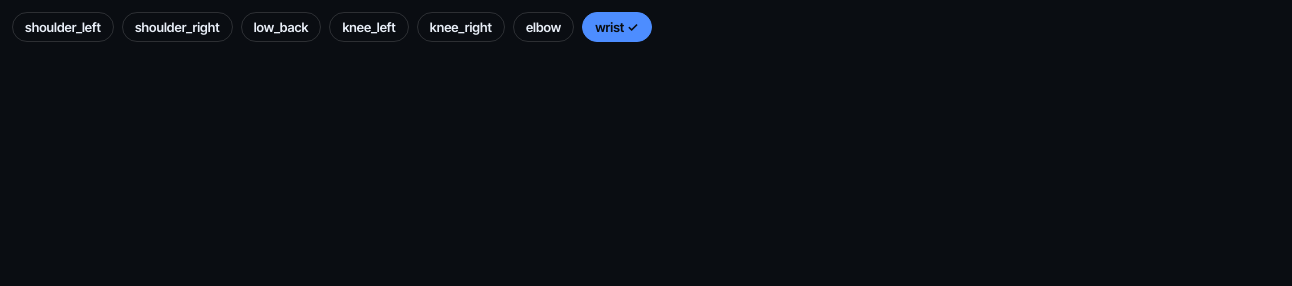
Test: <InjuryChipsEditor> › reverts chip state and surfaces error when PATCH fails
Click the button "wrist ✓".
click(617, 27)  # box [582,12,652,42]
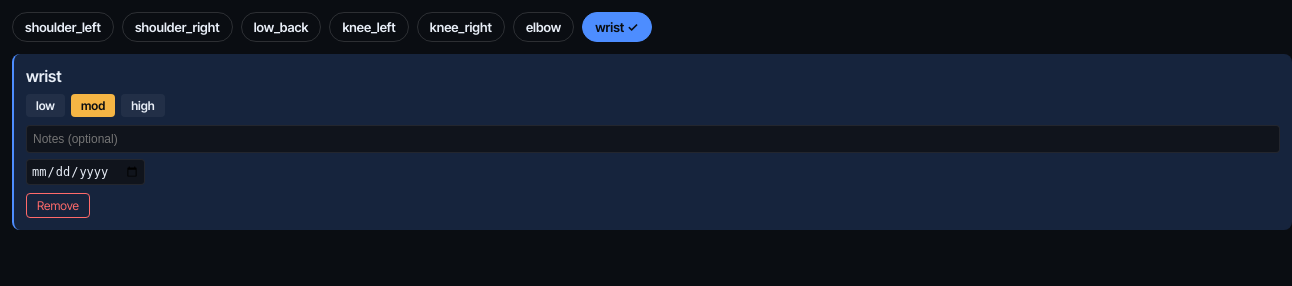
Click the button "high".
click(143, 106)  # box [121,94,165,117]
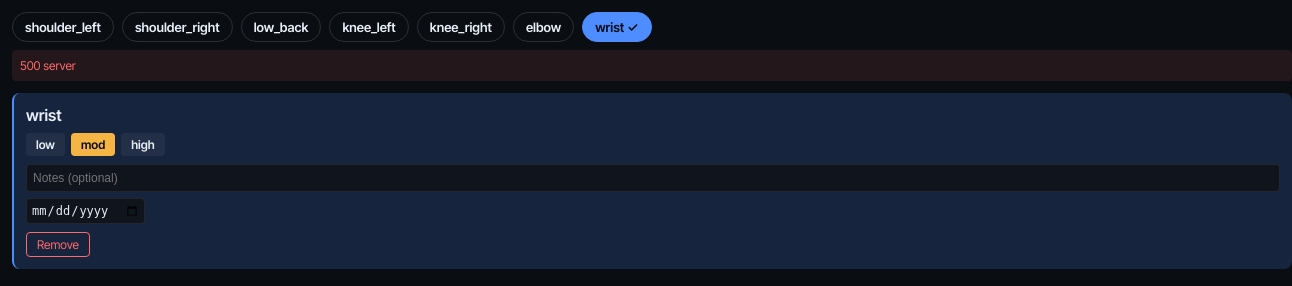
Result: the button "mod" is shown at [71,133,115,156]
Result: the message "500 server" is shown at [12,50,1291,81]
